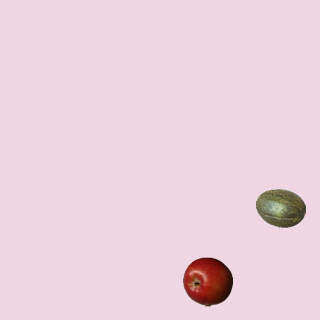Apple Braeburn: (182, 256, 232, 306)
Melon Piel de Sapo: (255, 183, 305, 233)
